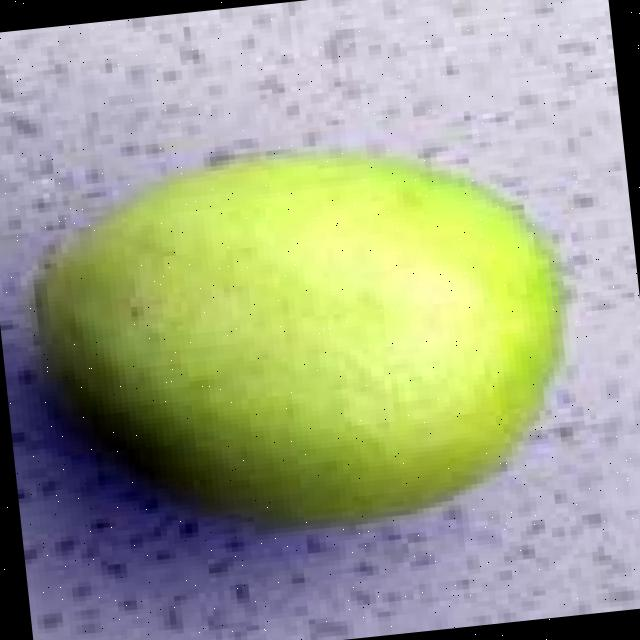Good_Lime-10-21-days: (27, 155, 567, 531)
